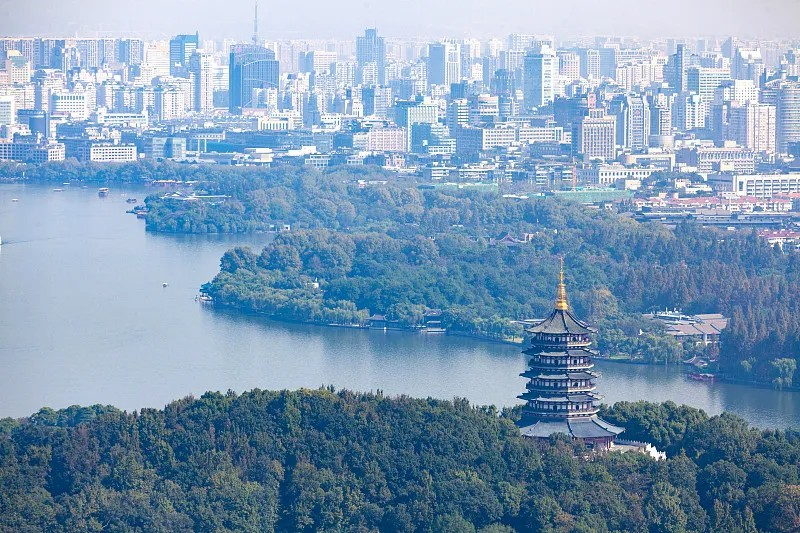Leifeng: (510, 256, 627, 452)
